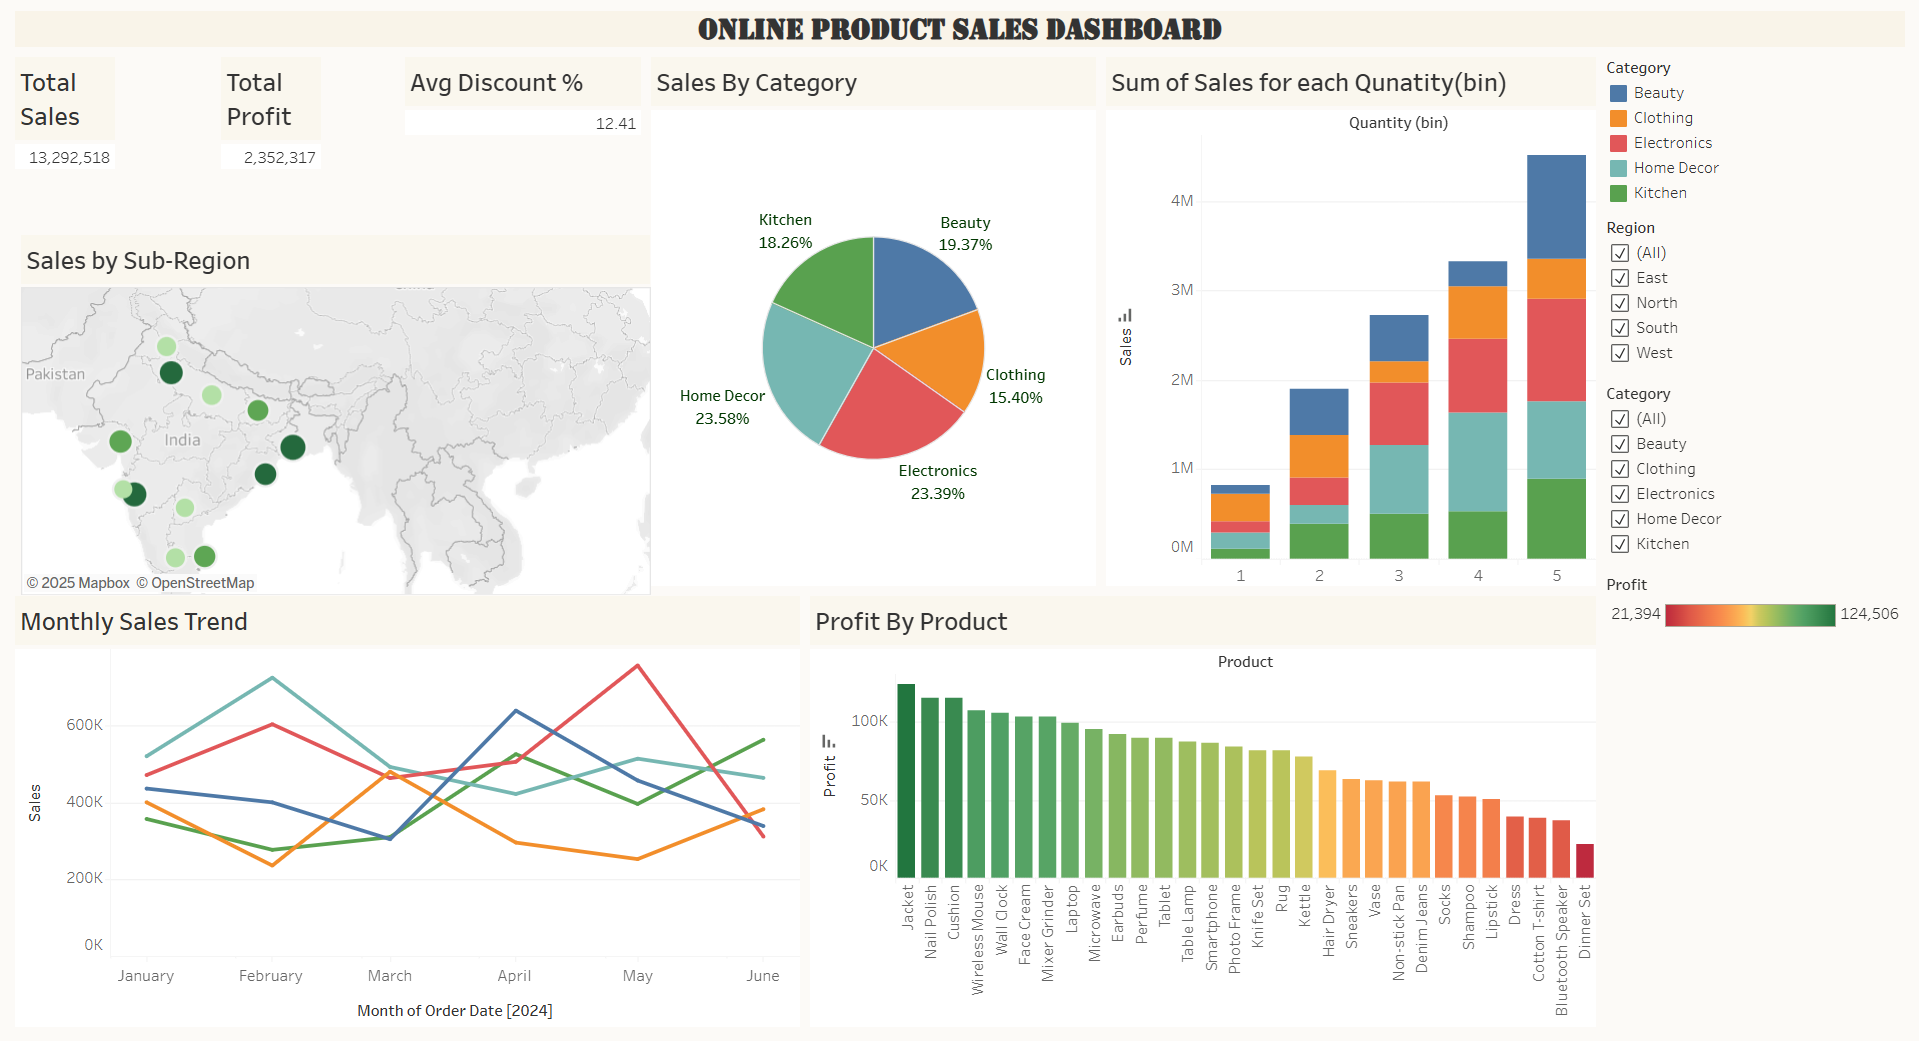

What the dashboard file says about the page in this screenshot:
{"tool":"tableau","page":{"name":"ONLINE PRODUCT SALES DASHBOARD","canvas":[1000,1000],"units":"permille","ordinal":0},"visuals":[{"type":"title","box":[4.9,10.2,990.2,56.1]},{"type":"worksheet","title":"Total Sales","mark":"Automatic","box":[4.9,66.2,108.9,508.2]},{"type":"worksheet","title":"Total Profit","mark":"Automatic","box":[113.8,66.2,97.2,508.2]},{"type":"worksheet","title":"Avg Discount %","mark":"Automatic","box":[211,66.2,129.7,508.2]},{"type":"worksheet","title":"Sales By Category","mark":"Pie","box":[340.7,66.2,240.1,508.2]},{"type":"worksheet","title":"Sum of Sales for each Qunatity(bin)","mark":"Automatic","rows":["Final Sales"],"cols":["Quantity (bin)"],"box":[580.8,66.2,263.8,508.2]},{"type":"legend","title":"Monthly Sales Trend","param":"[federated.1h541wr0xbplp81703fem0b2yhdk].[none:Category:nk]","box":[844.6,66.2,150.5,172]},{"type":"worksheet","title":"Sales by Sub-Region","mark":"Automatic","box":[10.9,228.5,328.3,343.3]},{"type":"filter","title":"Profit By Product","param":"[federated.1h541wr0xbplp81703fem0b2yhdk].[none:Region:nk]","box":[844.6,238.2,150.5,192.4]},{"type":"filter","title":"Profit By Product","param":"[federated.1h541wr0xbplp81703fem0b2yhdk].[none:Category:nk]","box":[844.6,430.6,150.5,221.7]},{"type":"worksheet","title":"Monthly Sales Trend","mark":"Automatic","rows":["Final Sales"],"cols":["Order Date"],"box":[4.9,574.4,419.7,415.4]},{"type":"worksheet","title":"Profit By Product","mark":"Automatic","rows":["Profit"],"cols":["Product"],"box":[424.6,574.4,420,415.4]},{"type":"legend","title":"Profit By Product","param":"[federated.1h541wr0xbplp81703fem0b2yhdk].[sum:Profit:qk]","box":[844.6,652.2,150.5,93]}]}

Visuals, with their boxes on the dashboard's canvas, which has no fixed pixel size, in thousandths of its width and height (x1, y1, x2, y2). These are canvas units, not pixel positions in the 1919x1041 screenshot, which may show the page scaled, cropped or inside an application window:
title: [5, 10, 995, 66]
"Total Sales" worksheet: [5, 66, 114, 574]
"Total Profit" worksheet: [114, 66, 211, 574]
"Avg Discount %" worksheet: [211, 66, 341, 574]
"Sales By Category" worksheet (Pie marks): [341, 66, 581, 574]
"Sum of Sales for each Qunatity(bin)" worksheet: [581, 66, 845, 574]
"Monthly Sales Trend" legend: [845, 66, 995, 238]
"Sales by Sub-Region" worksheet: [11, 228, 339, 572]
"Profit By Product" filter: [845, 238, 995, 431]
"Profit By Product" filter: [845, 431, 995, 652]
"Monthly Sales Trend" worksheet: [5, 574, 425, 990]
"Profit By Product" worksheet: [425, 574, 845, 990]
"Profit By Product" legend: [845, 652, 995, 745]
